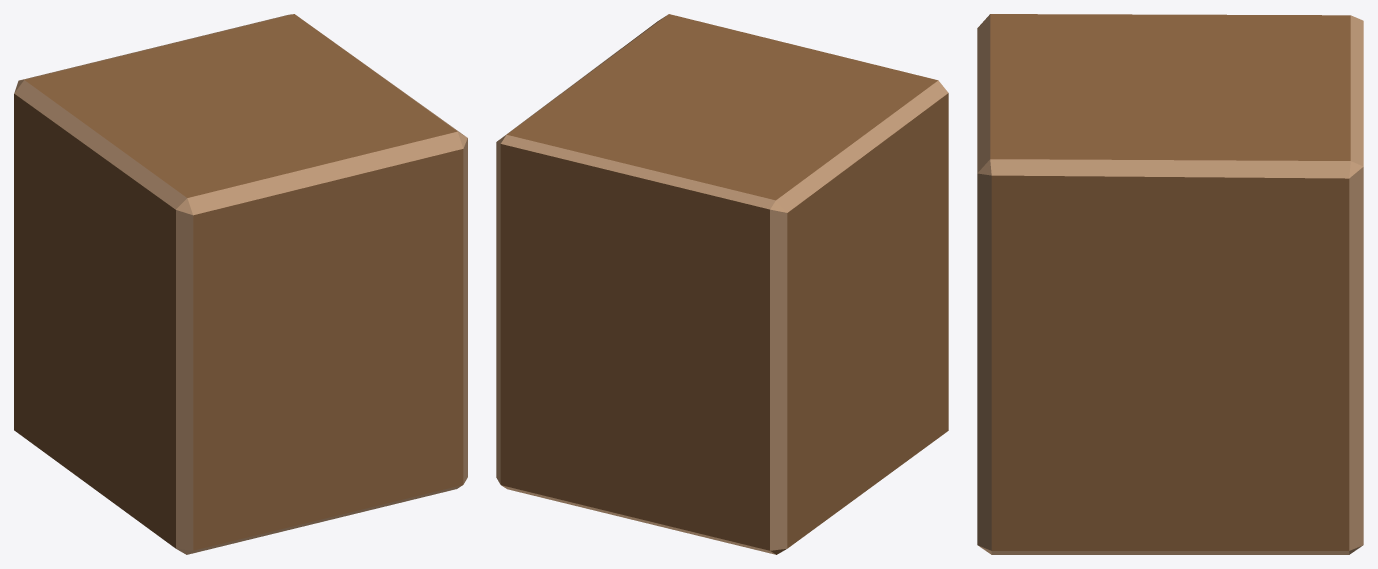
The model's file is ramp-top.glb.
3 views of the same model, side by side, from view 1: azimuth 30°, elevation 25°; view 2: azimuth 150°, elevation 25°; view 3: azimuth 270°, elevation 25° (orthographic). The views are drawn at different scales.
Parts seen in each view (by area): view 1: Cube-col; view 2: Cube-col; view 3: Cube-col.
Part boxes in pixels (left/top/right/bottom): Cube-col: left=14, top=14, right=467, bottom=554; Cube-col: left=496, top=14, right=948, bottom=554; Cube-col: left=977, top=14, right=1363, bottom=554.
Bounding box in the file's own units: 5.09 × 5.96 × 5.27.
Materials: 1 (1 with a texture image).
